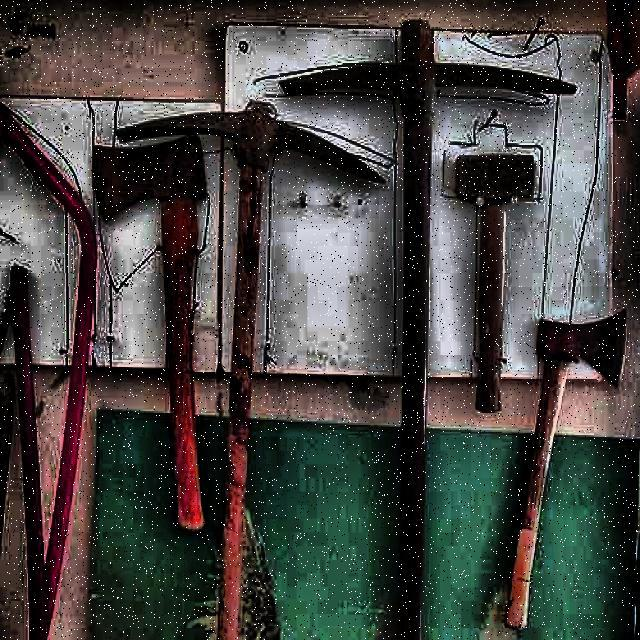hammer: (454, 148, 536, 420)
